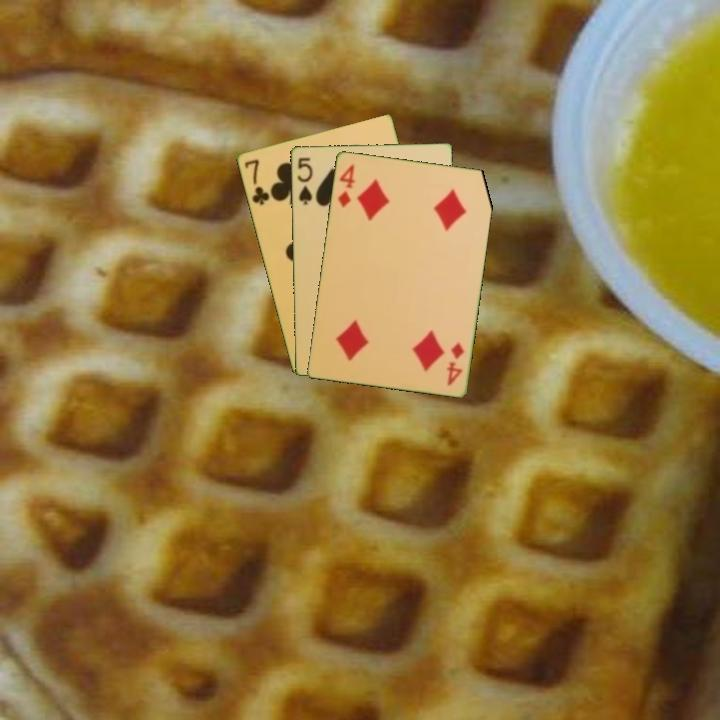4d: (443, 338, 467, 389), (334, 161, 358, 210)
5s: (294, 154, 315, 208)
7c: (241, 155, 272, 208)
